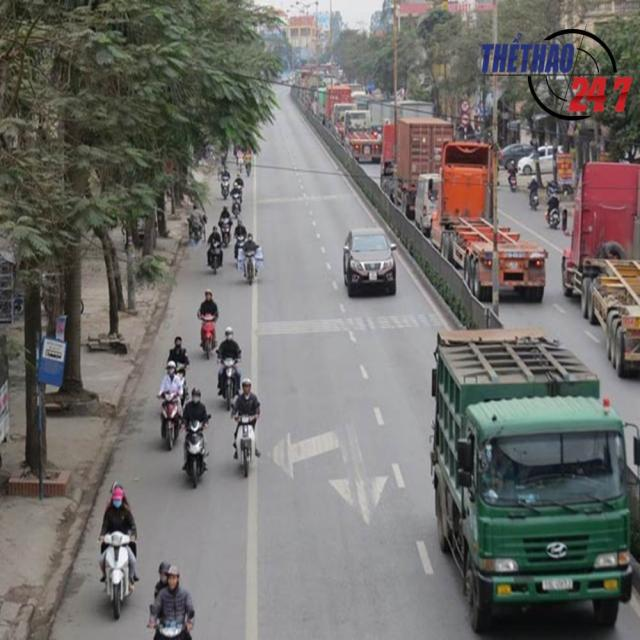ben: (426, 318, 640, 632), (428, 136, 553, 308), (569, 149, 640, 363), (382, 112, 458, 208), (340, 102, 389, 169)
car: (336, 222, 401, 302)
motobyte: (96, 476, 142, 620), (176, 382, 213, 492), (228, 375, 264, 481), (155, 357, 184, 452), (216, 324, 246, 411), (196, 287, 218, 362), (206, 220, 226, 279), (242, 228, 261, 287), (218, 200, 234, 252), (230, 180, 244, 225)
